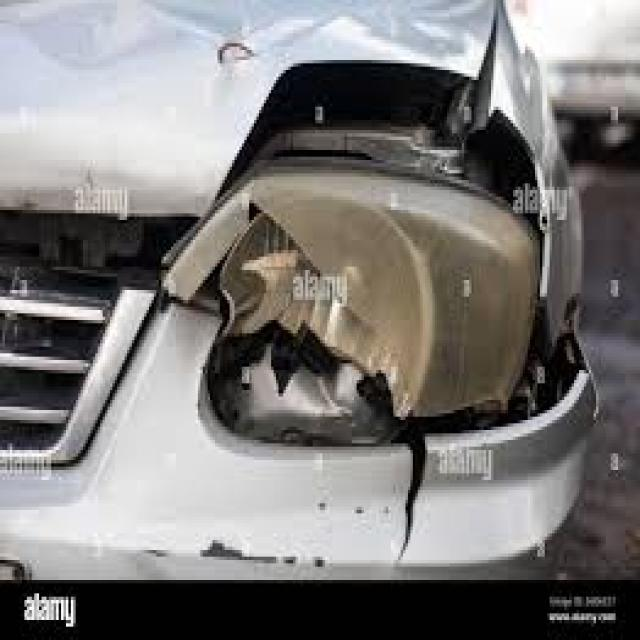damaged-head-light: (210, 158, 554, 422)
